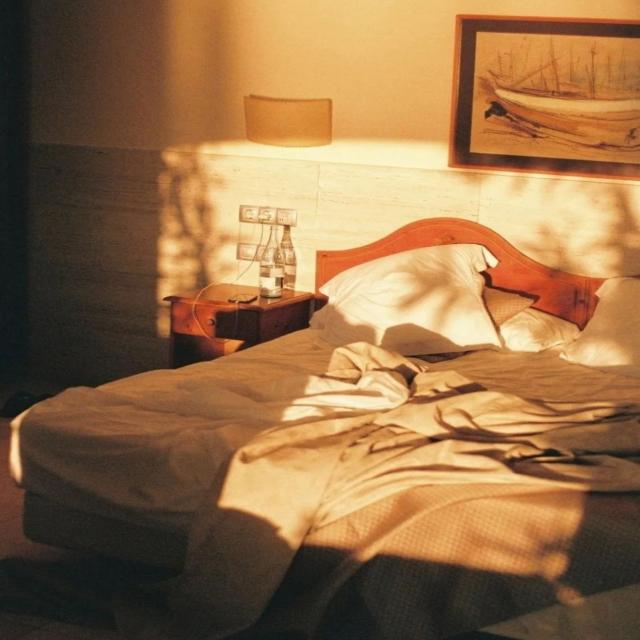bed: (13, 225, 640, 595)
